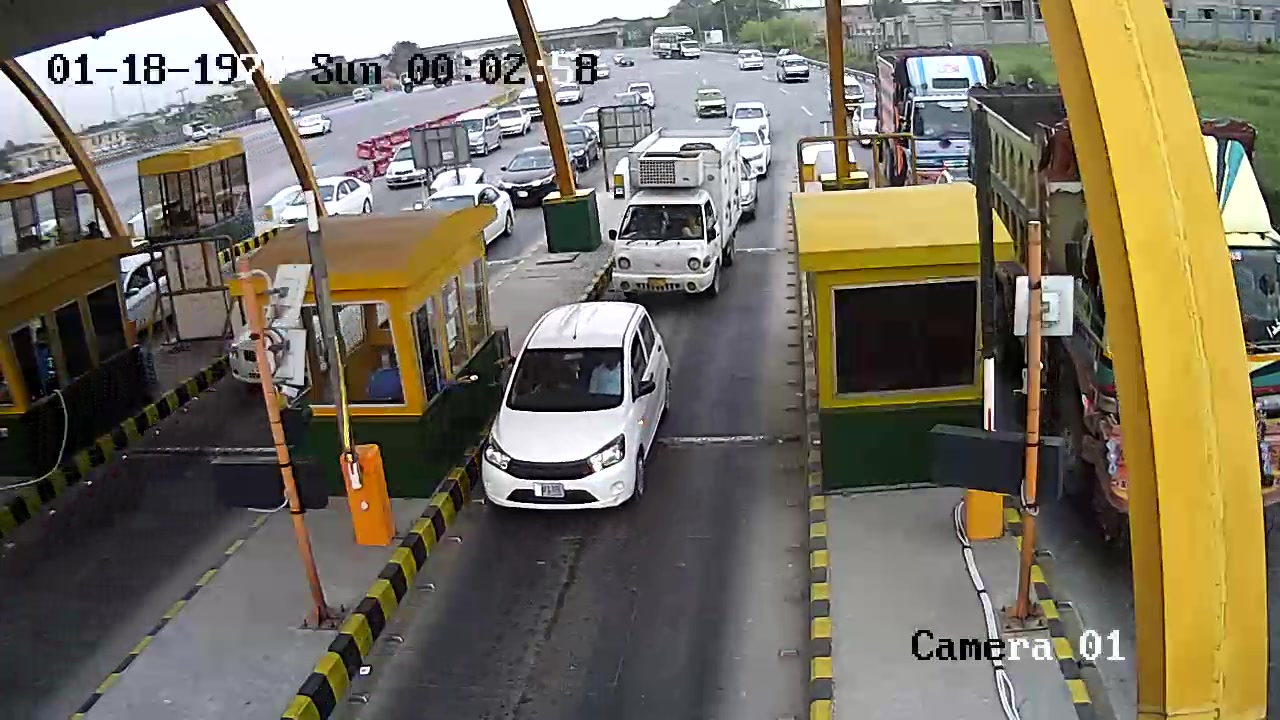F1: (472, 298, 677, 521)
